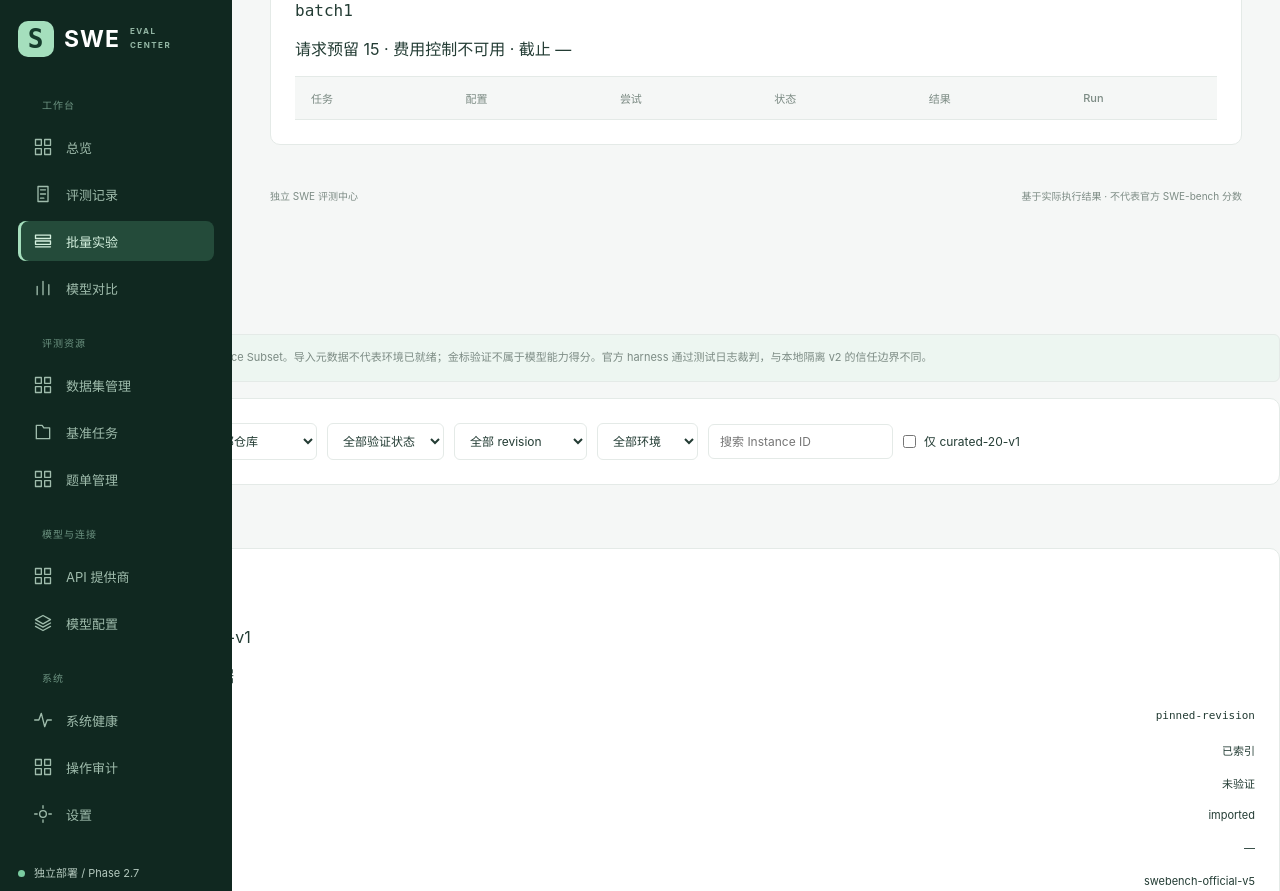
official catalogue separates imported metadata from executable readiness and filters instances
The width and height of the screenshot is (1280, 891).
(page scrolled)
Expected: the text "未验证" is shown, [1222, 777, 1255, 791]
Type "does-not-exist" into the field labelled "Instance ID" at (800, 441), box [708, 424, 893, 459]
(page scrolled)
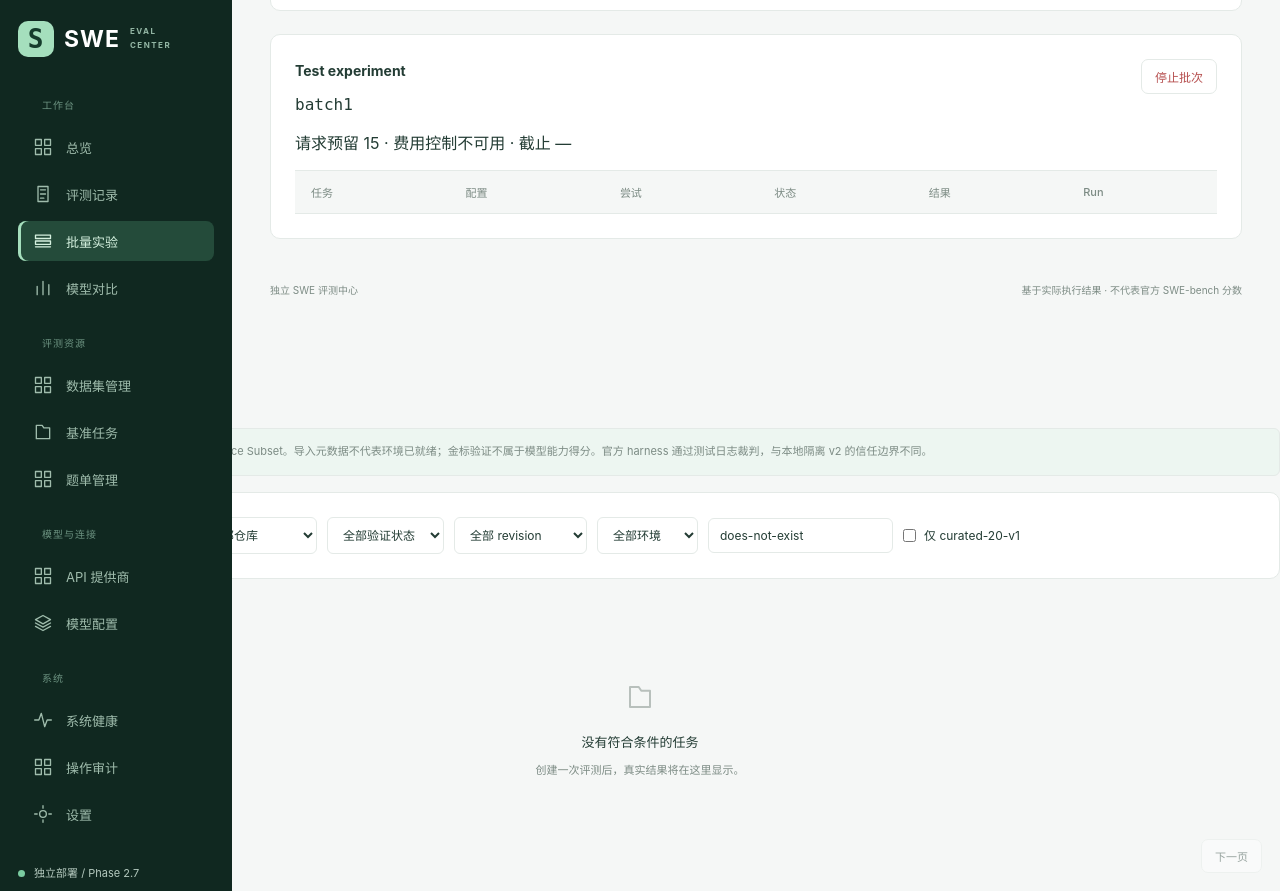
Expected: the heading "没有符合条件的任务" is shown, [582, 734, 698, 750]
